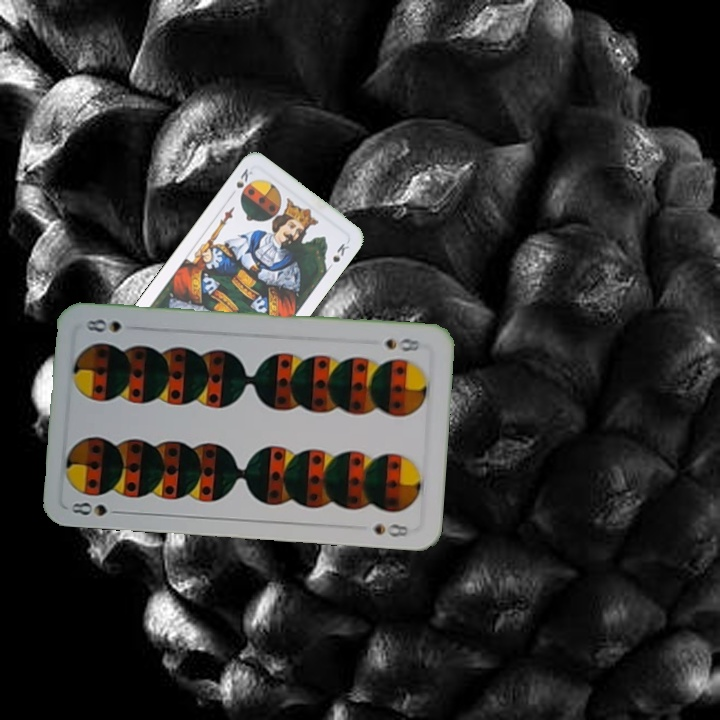S8: (68, 498, 126, 519), (381, 332, 429, 354)
SK: (232, 164, 256, 191)
